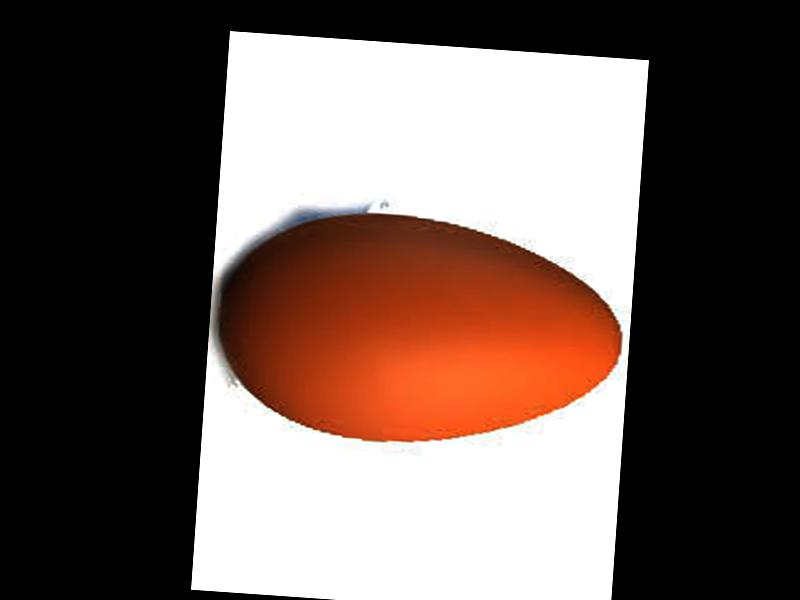Eggs: (211, 204, 626, 457)
